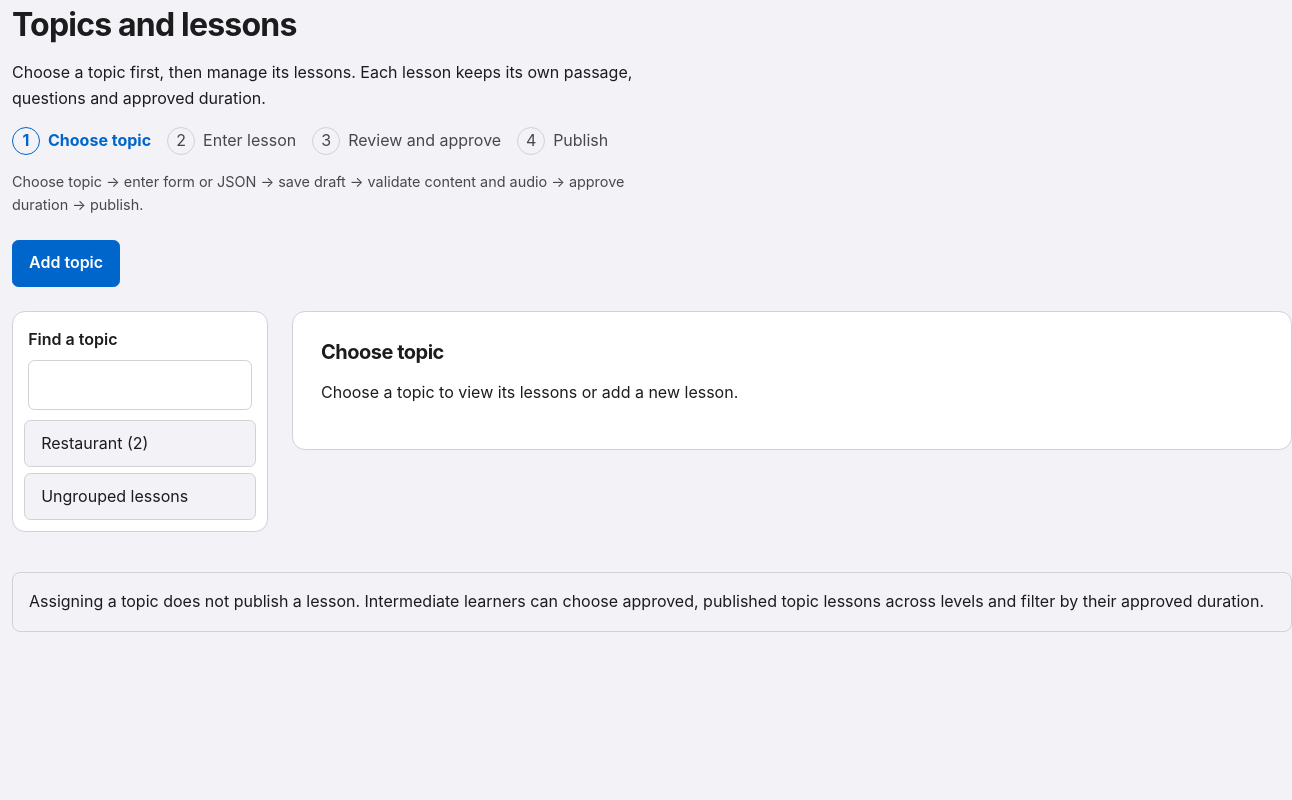
Intermediate topic group workspace › shows multiple lessons within a group with separate edit links and publication states
This screenshot has width=1292, height=800.
Click the button "Restaurant (2)" at (140, 443), box x1=24 y1=420 x2=256 y2=467
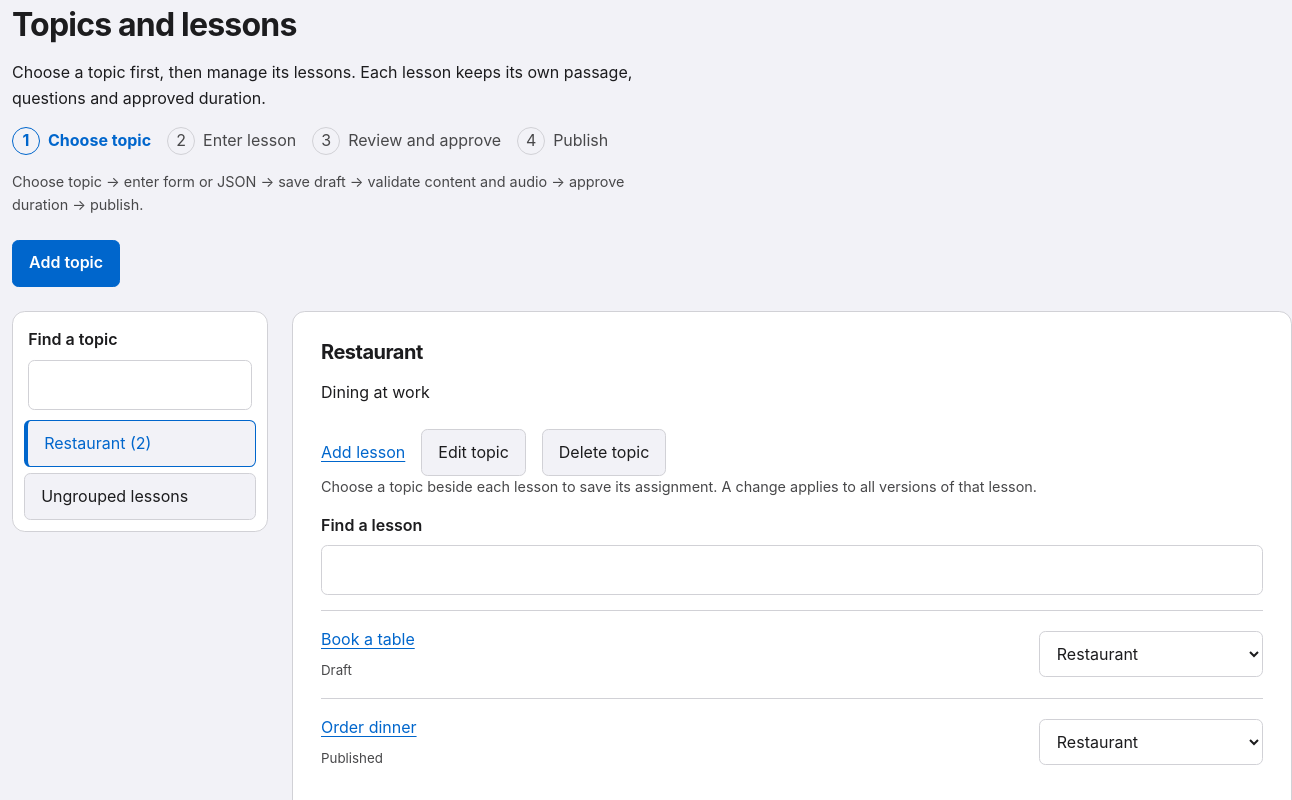
Check: the link "Order dinner" is shown, box x1=321 y1=717 x2=417 y2=737
Check: the text "Draft" is shown, box x1=321 y1=662 x2=352 y2=678
Check: the text "Published" is shown, box x1=321 y1=750 x2=383 y2=766
